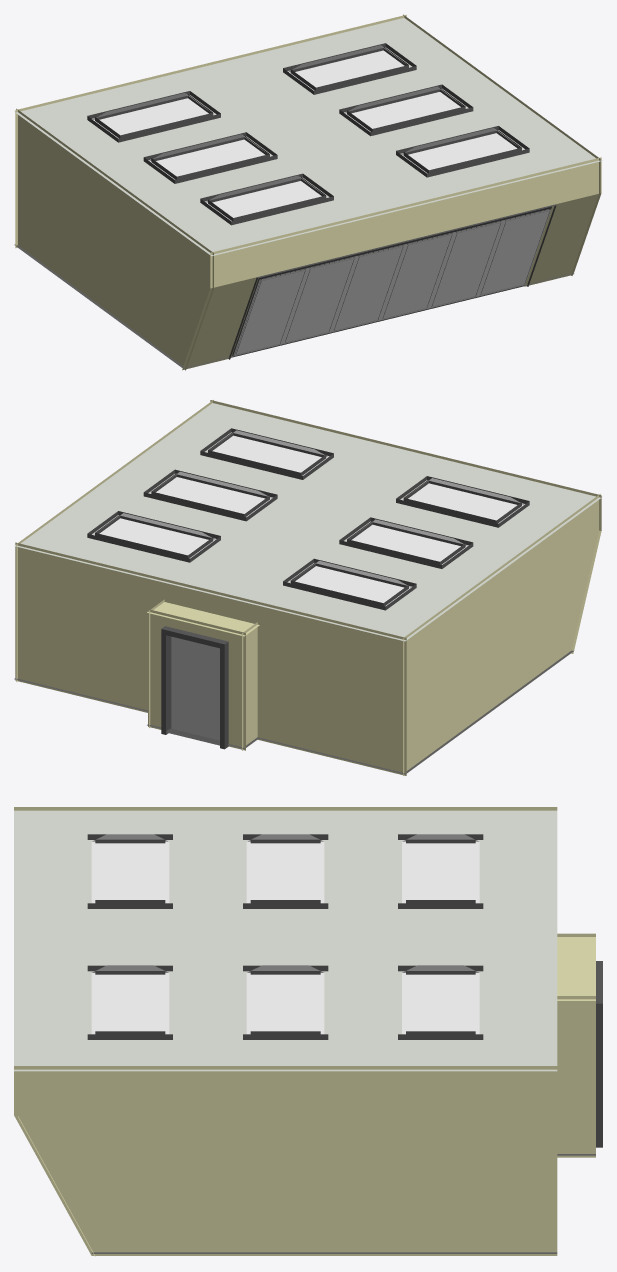
File: blankRoom.glb
3 renders of one model, top to bottom at view 1: azimuth 30°, elevation 25°; view 2: azimuth 150°, elevation 25°; view 3: azimuth 270°, elevation 25°, orthographic. The views are drawn at different scales.
Visible parts, largest first — view 1: brCeiling, brWWall, brLights, brWindow, brSWall, brNWall, brFloor, brEWall; view 2: brCeiling, brNWall, brWWall, brLights, brDoorway, brFloor, doorFrame, brSWall, brEWall; view 3: brCeiling, brEWall, brLights, brDoorway, brWWall, doorFrame, brFloor.
Boxes of the visible parts, left/top/right/bottom form: brCeiling: left=14, top=18, right=602, bottom=256; brWWall: left=16, top=108, right=213, bottom=370; brLights: left=87, top=43, right=529, bottom=225; brWindow: left=228, top=204, right=556, bottom=359; brSWall: left=182, top=157, right=601, bottom=370; brNWall: left=15, top=14, right=406, bottom=248; brFloor: left=14, top=244, right=574, bottom=368; brEWall: left=403, top=14, right=600, bottom=275; brCeiling: left=14, top=403, right=602, bottom=641; brNWall: left=15, top=542, right=406, bottom=775; brWWall: left=403, top=494, right=600, bottom=775; brLights: left=87, top=428, right=529, bottom=610; brDoorway: left=147, top=599, right=259, bottom=750; brFloor: left=14, top=636, right=573, bottom=774; doorFrame: left=161, top=626, right=228, bottom=749; brSWall: left=210, top=400, right=601, bottom=653; brEWall: left=16, top=400, right=213, bottom=681; brCeiling: left=14, top=810, right=557, bottom=1071; brEWall: left=14, top=1066, right=557, bottom=1255; brLights: left=87, top=834, right=483, bottom=1039; brDoorway: left=557, top=933, right=595, bottom=1157; brWWall: left=14, top=807, right=557, bottom=810; doorFrame: left=596, top=961, right=602, bottom=1147; brFloor: left=91, top=1154, right=595, bottom=1253.
Bounding box in the file's own units: 8 × 2.85 × 7.59.
